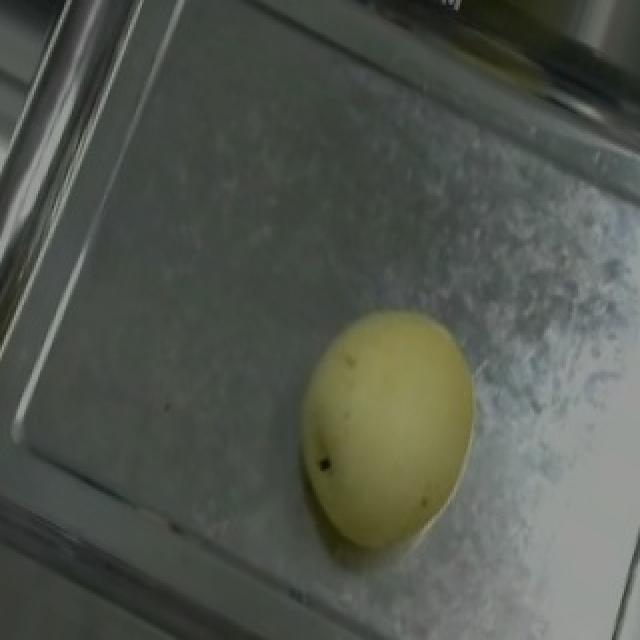Fruit: (248, 268, 524, 583)
